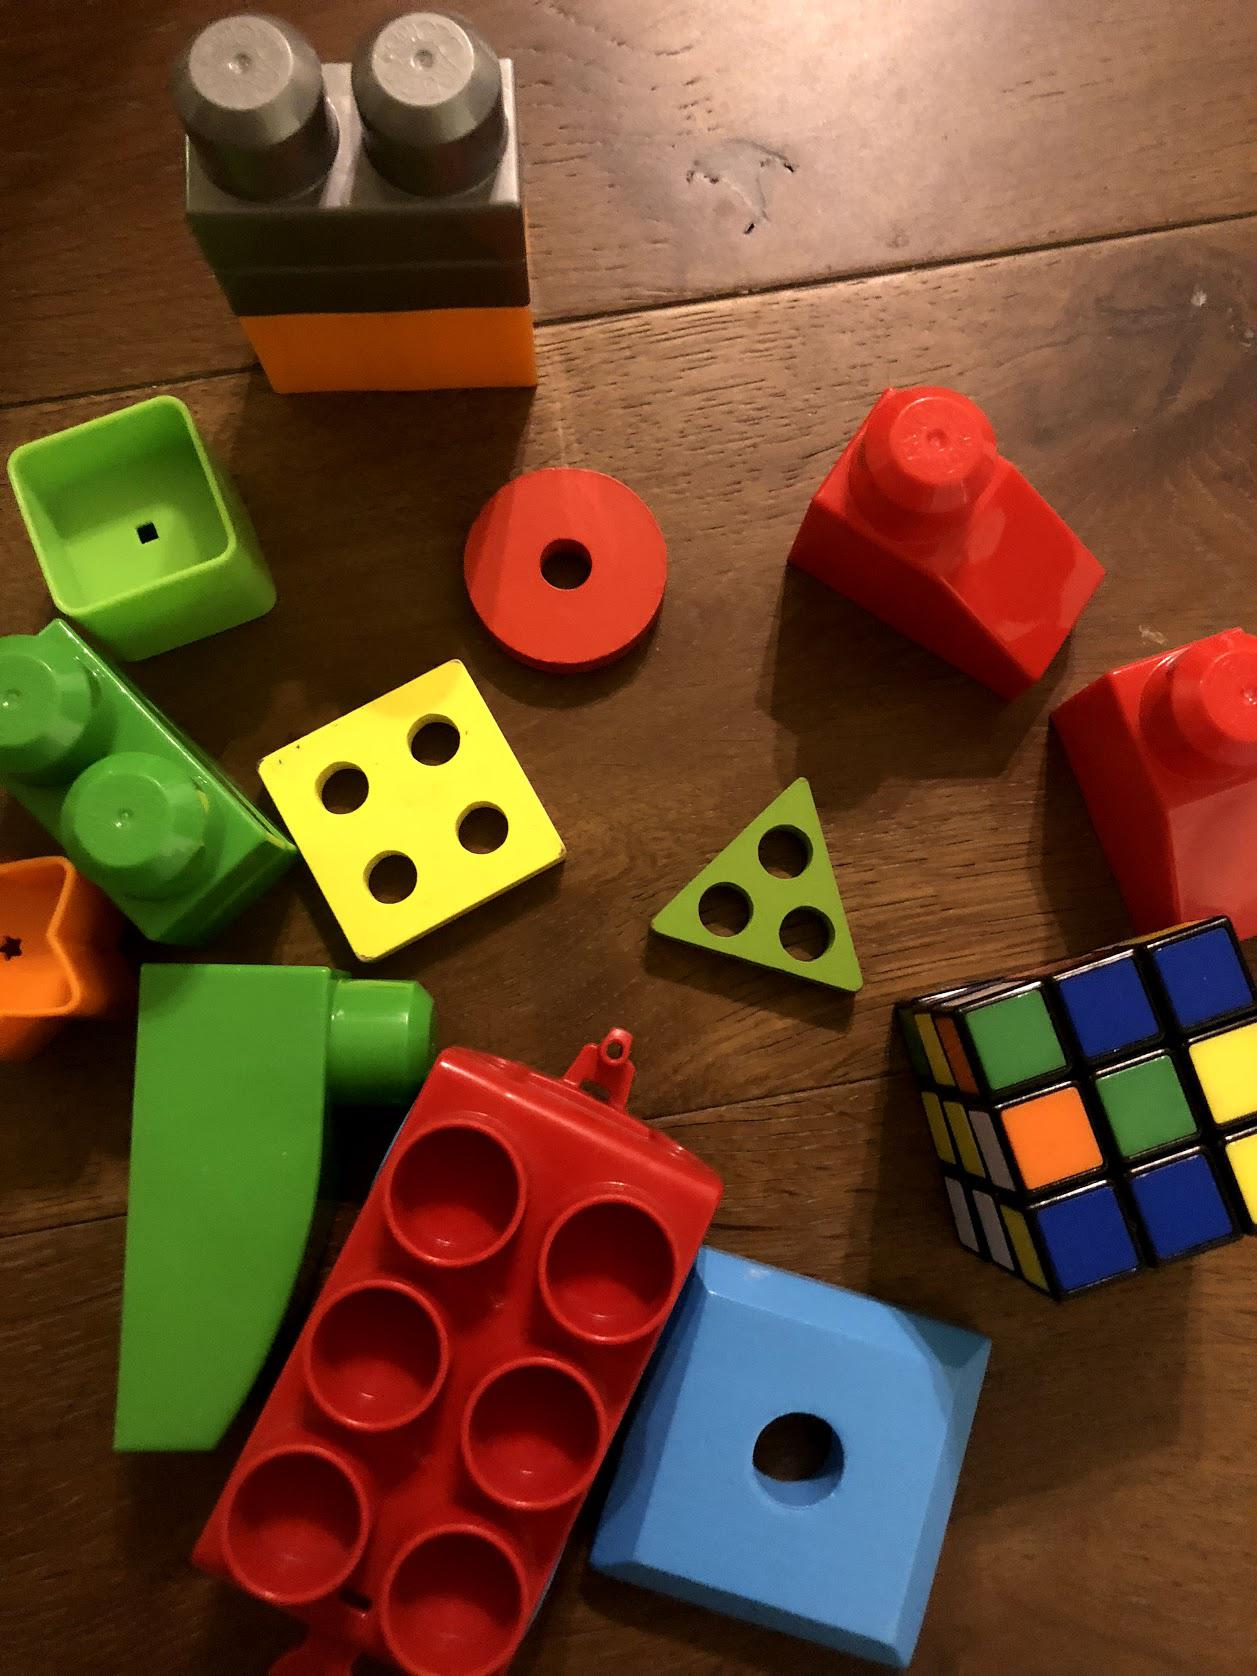Circle: (463, 461, 673, 662)
Square: (255, 657, 565, 959)
Triangle: (651, 769, 867, 1015)
